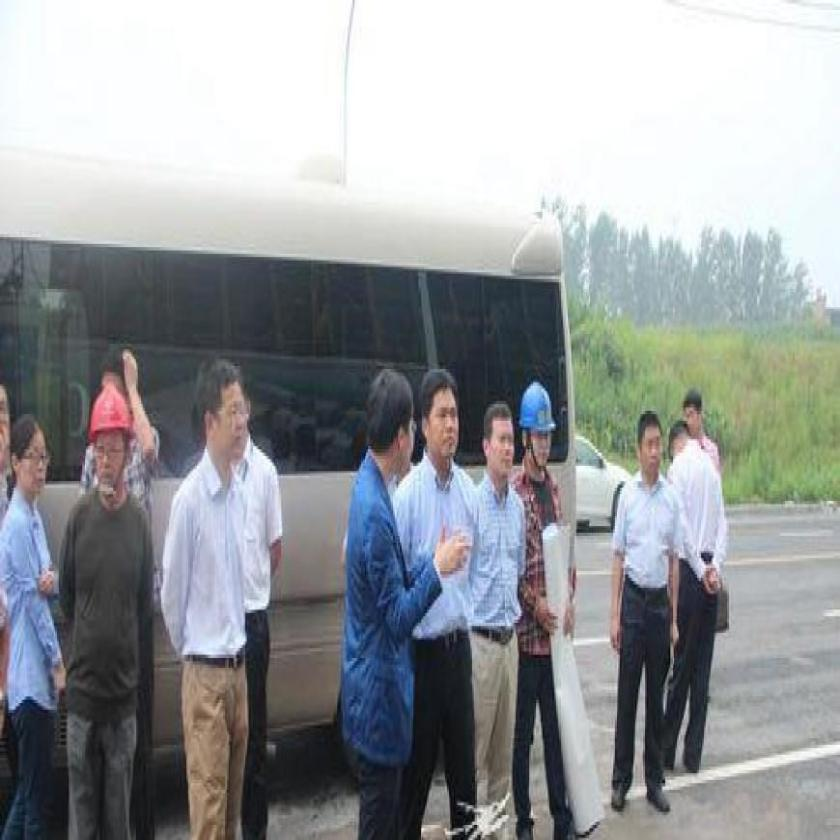Con_casco: (80, 379, 140, 502), (517, 374, 553, 473)
Sin_casco: (194, 358, 253, 475), (364, 365, 415, 487), (419, 370, 462, 478), (11, 413, 50, 497), (480, 402, 516, 489), (636, 408, 662, 484), (680, 389, 706, 438)
